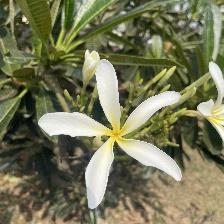champaka: (41, 58, 189, 213), (195, 60, 224, 153)
